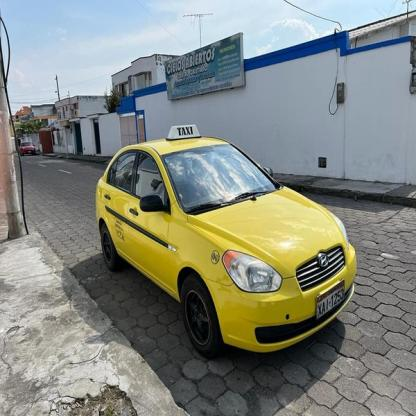Placa: (308, 280, 350, 321)
